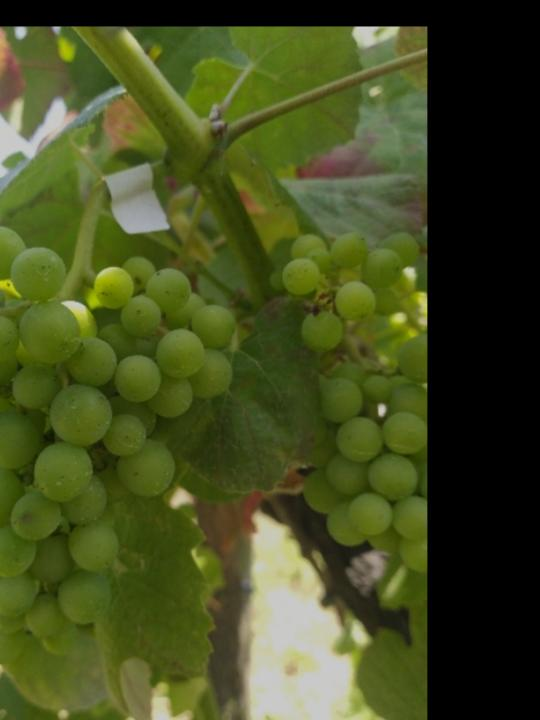grape: (0, 221, 240, 671)
